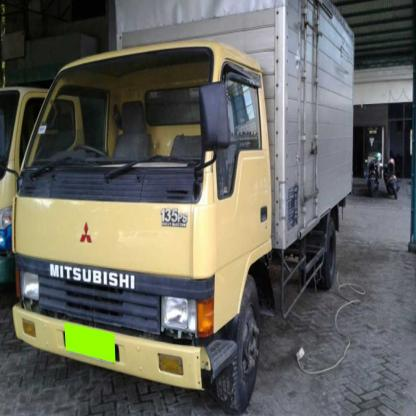truck: (8, 1, 356, 407)
